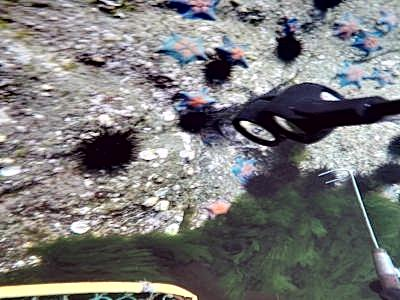urchin: (85, 131, 132, 167), (244, 173, 275, 194), (175, 111, 201, 131), (277, 36, 299, 59), (273, 161, 297, 182), (208, 56, 230, 76), (374, 162, 394, 184)
